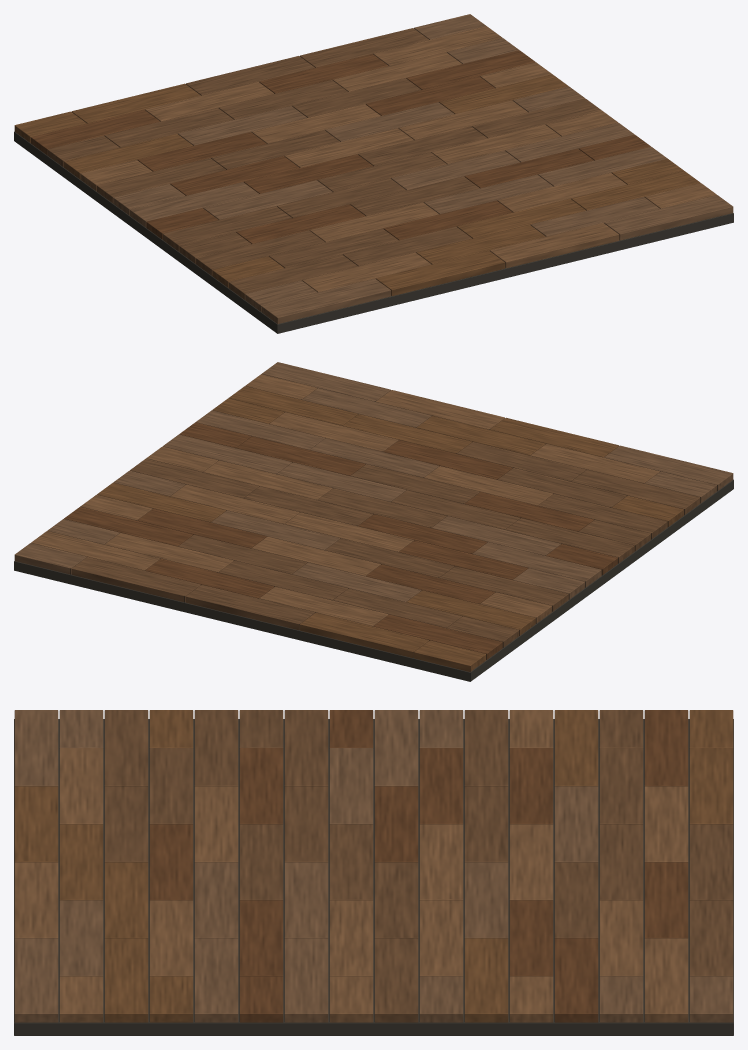
Rendered from Floor_Wood_4x4.glb.
3 renders of one model, top to bottom at view 1: azimuth 30°, elevation 25°; view 2: azimuth 150°, elevation 25°; view 3: azimuth 270°, elevation 25°, orthographic. The views are drawn at different scales.
Visible parts, largest first — view 1: Floor_Wood_4x4.001; view 2: Floor_Wood_4x4.001; view 3: Floor_Wood_4x4.001.
Part boxes in pixels (x1,y1,x2,y2): Floor_Wood_4x4.001: (14,14,733,333); Floor_Wood_4x4.001: (14,362,733,681); Floor_Wood_4x4.001: (14,710,733,1035).
Bounding box in the file's own units: 4 × 0.135 × 4.
6 materials, 6 textured.
